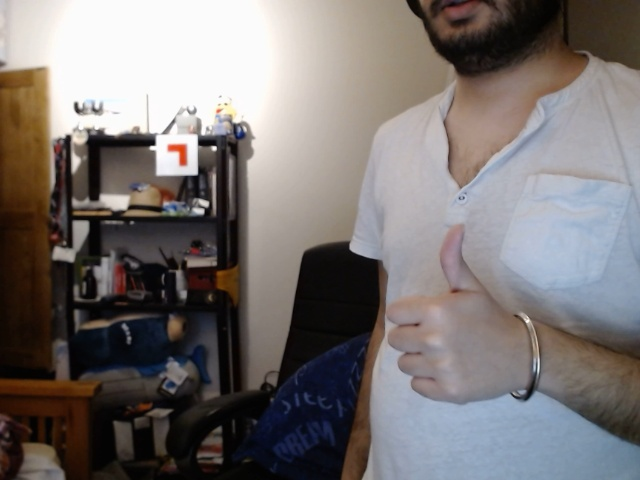Thumbs up: (378, 211, 536, 425)
